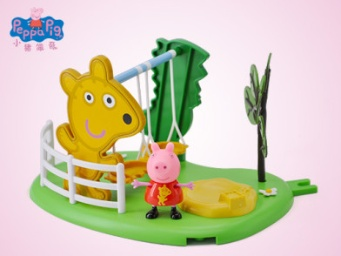Peppa: (131, 142, 194, 223)
